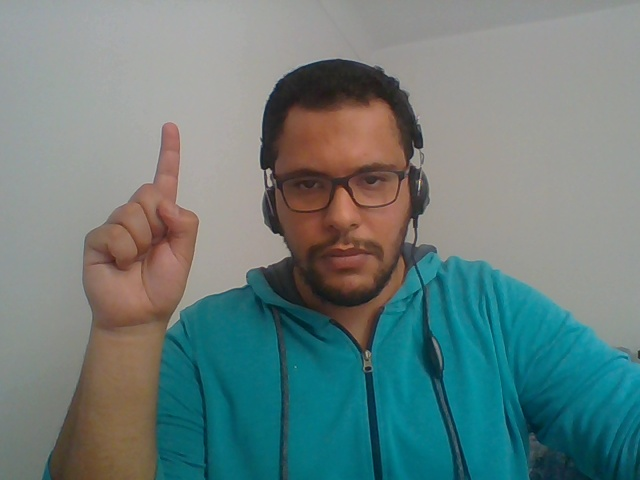handup: (62, 106, 214, 425)
